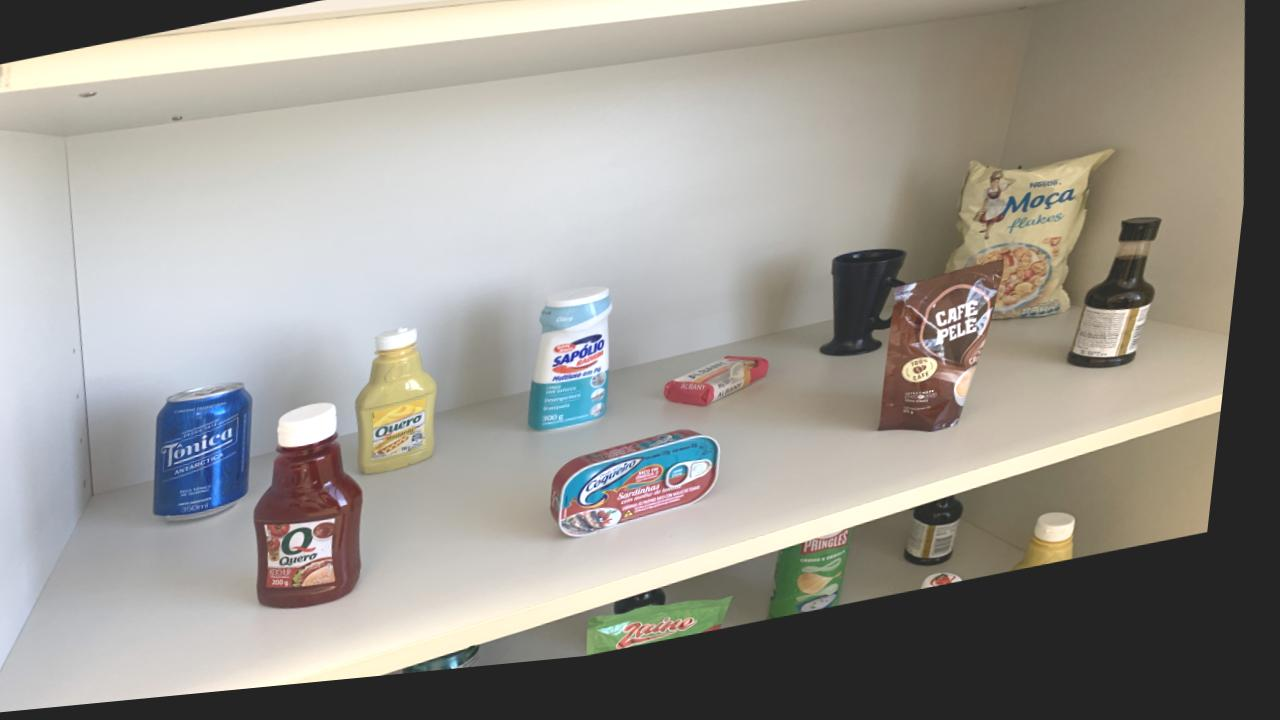Cleaner-Cleanup_Items: (540, 299, 621, 442)
Coffee-Pantry_Items: (890, 282, 1011, 452)
English_Sauce-Pantry_Items: (1078, 240, 1169, 392), (920, 516, 977, 586)
Flakes-Snacks: (955, 172, 1120, 340)
Guarana_Can-Drinks: (419, 656, 496, 683)
Ketchup-Pantry_Items: (267, 409, 376, 615)
Mustard-Pantry_Items: (366, 335, 447, 483), (1029, 534, 1091, 592)
Pringles-Snacks: (785, 548, 865, 634)
Soap-Cleanup_Items: (675, 372, 779, 421)
Tomato_Sauce-Pantry_Items: (604, 613, 747, 668)
Tonic-Drinks: (165, 387, 263, 525)
Tuna_Can-Pantry_Items: (564, 444, 732, 550)
